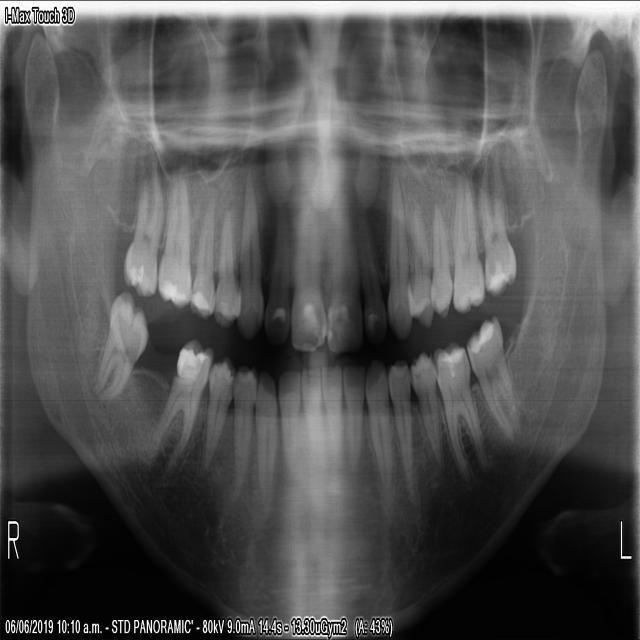LCD: (365, 357, 393, 507)
LCU: (388, 172, 414, 339)
LID: (321, 364, 345, 489), (343, 362, 365, 483)
LIU: (324, 167, 364, 353), (358, 185, 385, 337)
LMD: (434, 337, 489, 484), (467, 312, 522, 442)
LMU: (478, 173, 518, 304), (452, 174, 485, 318)
LPMD: (410, 345, 442, 469), (387, 355, 414, 480)
LPMU: (408, 173, 432, 329), (429, 189, 452, 319)
RCD: (253, 362, 277, 510)
RCU: (235, 172, 266, 340)
RID: (277, 370, 305, 498), (300, 364, 326, 492)
RIU: (289, 162, 324, 348), (264, 175, 291, 345)
RMD: (150, 334, 215, 485), (93, 285, 151, 403)
RMU: (121, 164, 164, 303), (158, 172, 192, 308)
RPMD: (201, 349, 236, 464), (232, 362, 254, 497)
RPMU: (211, 185, 239, 329), (188, 185, 217, 323)
